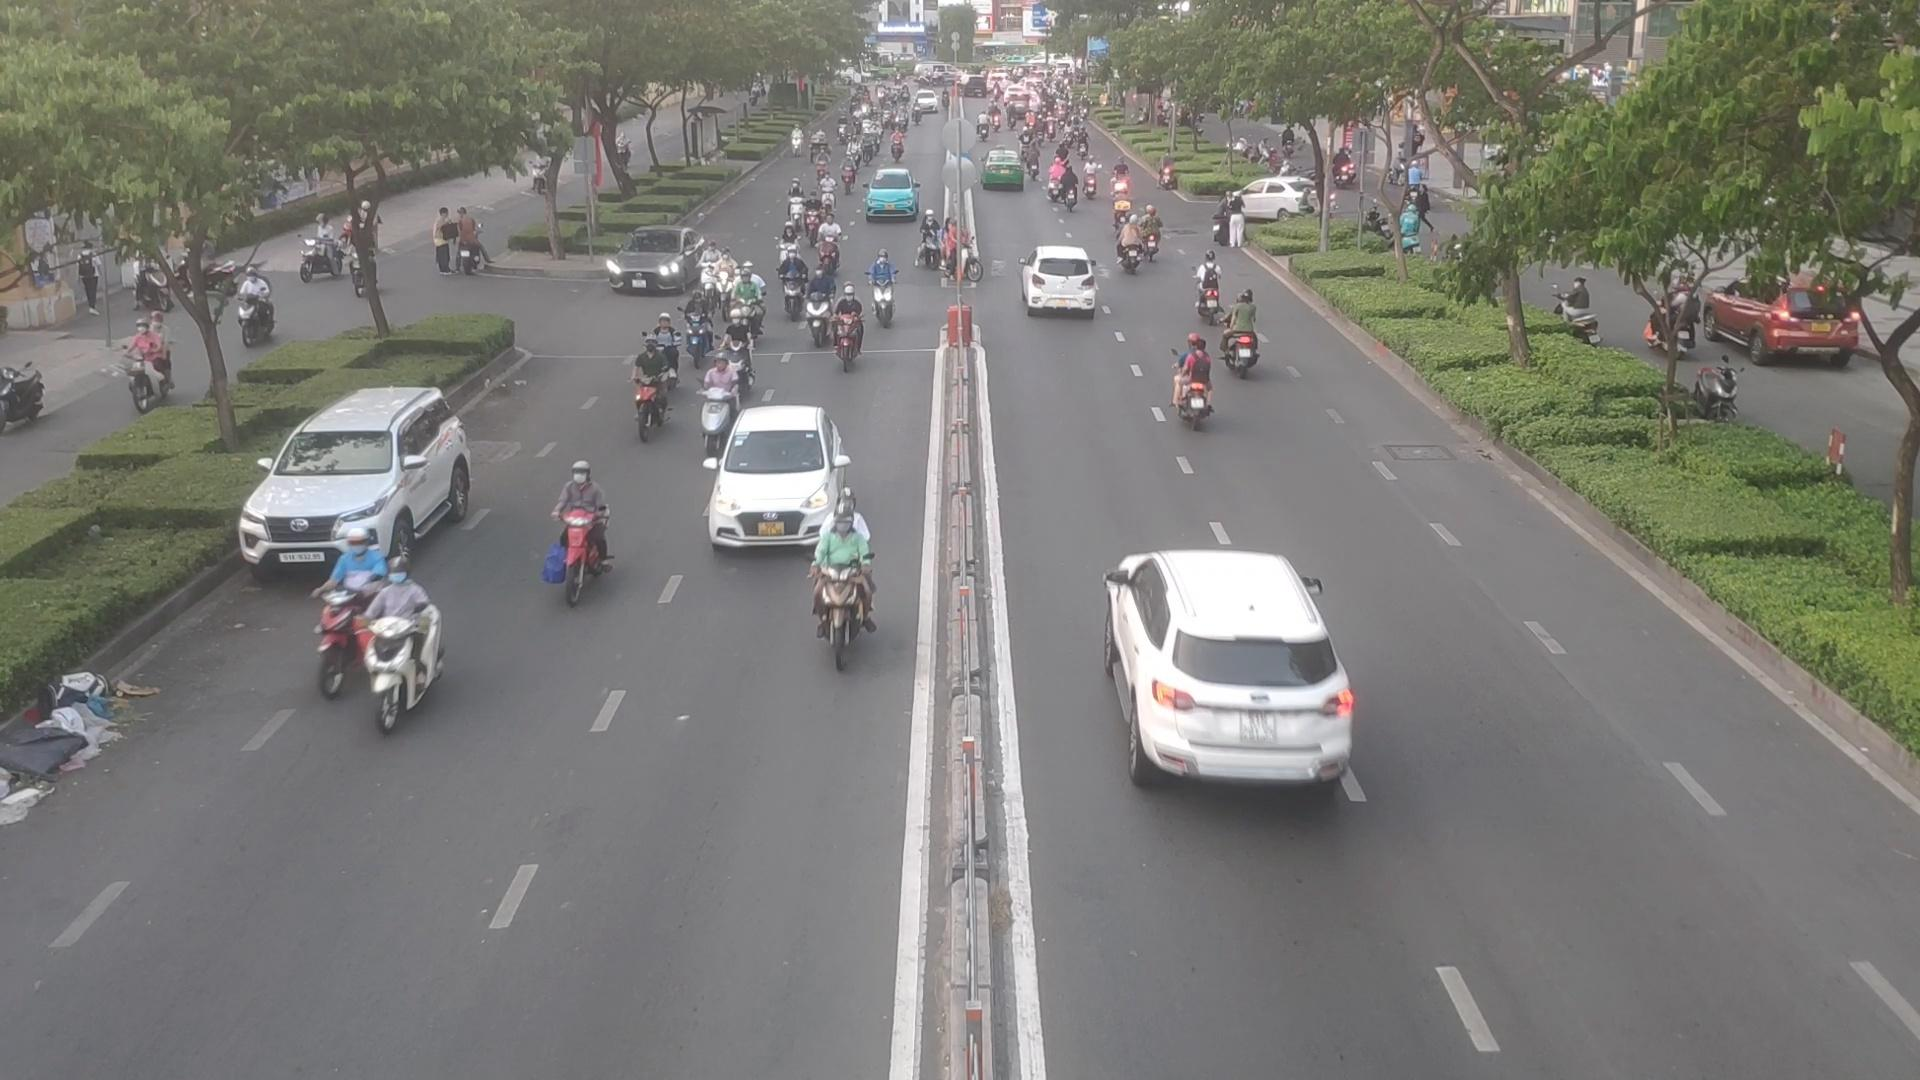car: (1105, 545, 1357, 785), (232, 384, 485, 576), (704, 405, 843, 555), (608, 229, 715, 297), (1023, 243, 1101, 318), (1228, 179, 1309, 224), (862, 170, 922, 225), (978, 149, 1025, 194)
motorbike: (305, 529, 392, 669), (367, 578, 446, 731), (814, 502, 876, 688), (539, 465, 611, 618), (625, 338, 676, 452), (695, 363, 740, 448), (641, 305, 684, 388), (1179, 330, 1215, 429), (940, 218, 985, 295), (719, 311, 754, 396), (736, 262, 767, 344), (836, 285, 862, 375), (1230, 291, 1255, 382), (804, 265, 833, 342), (683, 287, 711, 367), (872, 247, 897, 334), (713, 244, 740, 318), (815, 214, 845, 274), (774, 223, 803, 278), (1193, 253, 1218, 316), (783, 249, 806, 319), (1141, 203, 1164, 262), (920, 211, 945, 262), (781, 179, 804, 231), (700, 244, 717, 305), (1106, 164, 1127, 206), (1122, 211, 1137, 272), (803, 191, 822, 239), (1108, 193, 1131, 228), (1047, 166, 1068, 206), (1063, 170, 1081, 210), (1077, 160, 1096, 196), (818, 174, 837, 208), (840, 161, 857, 194)
